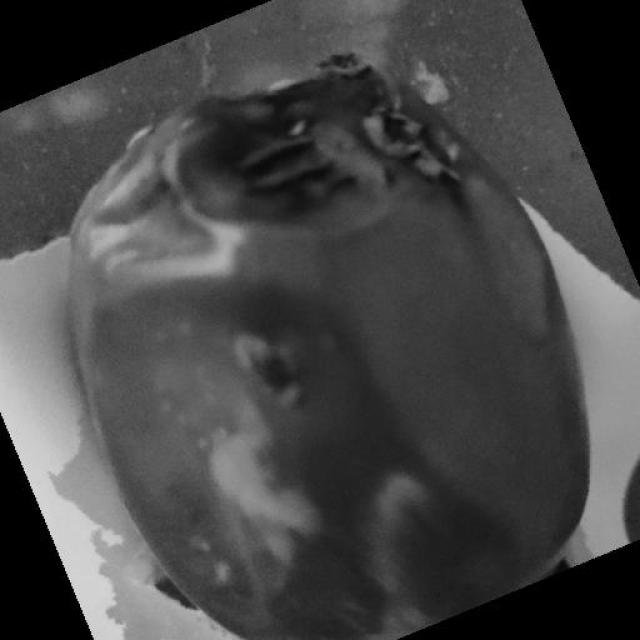Stale_tomato: (104, 38, 535, 618)
